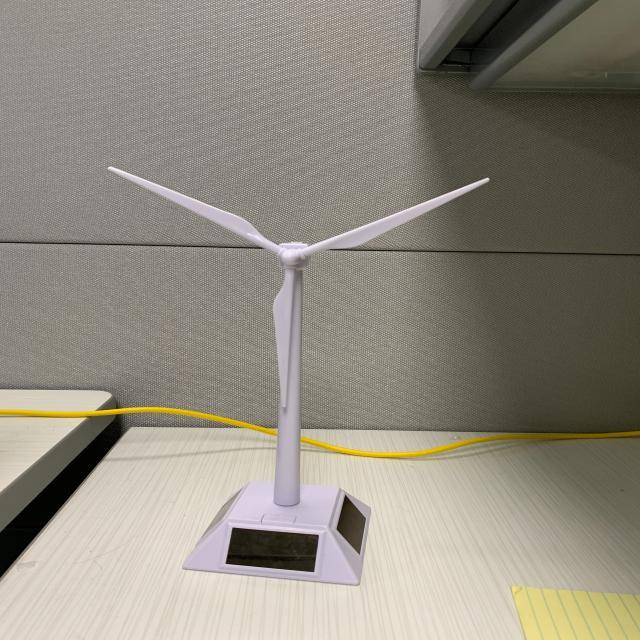solid-blade: (302, 178, 489, 256), (109, 168, 280, 253), (272, 280, 294, 407)
